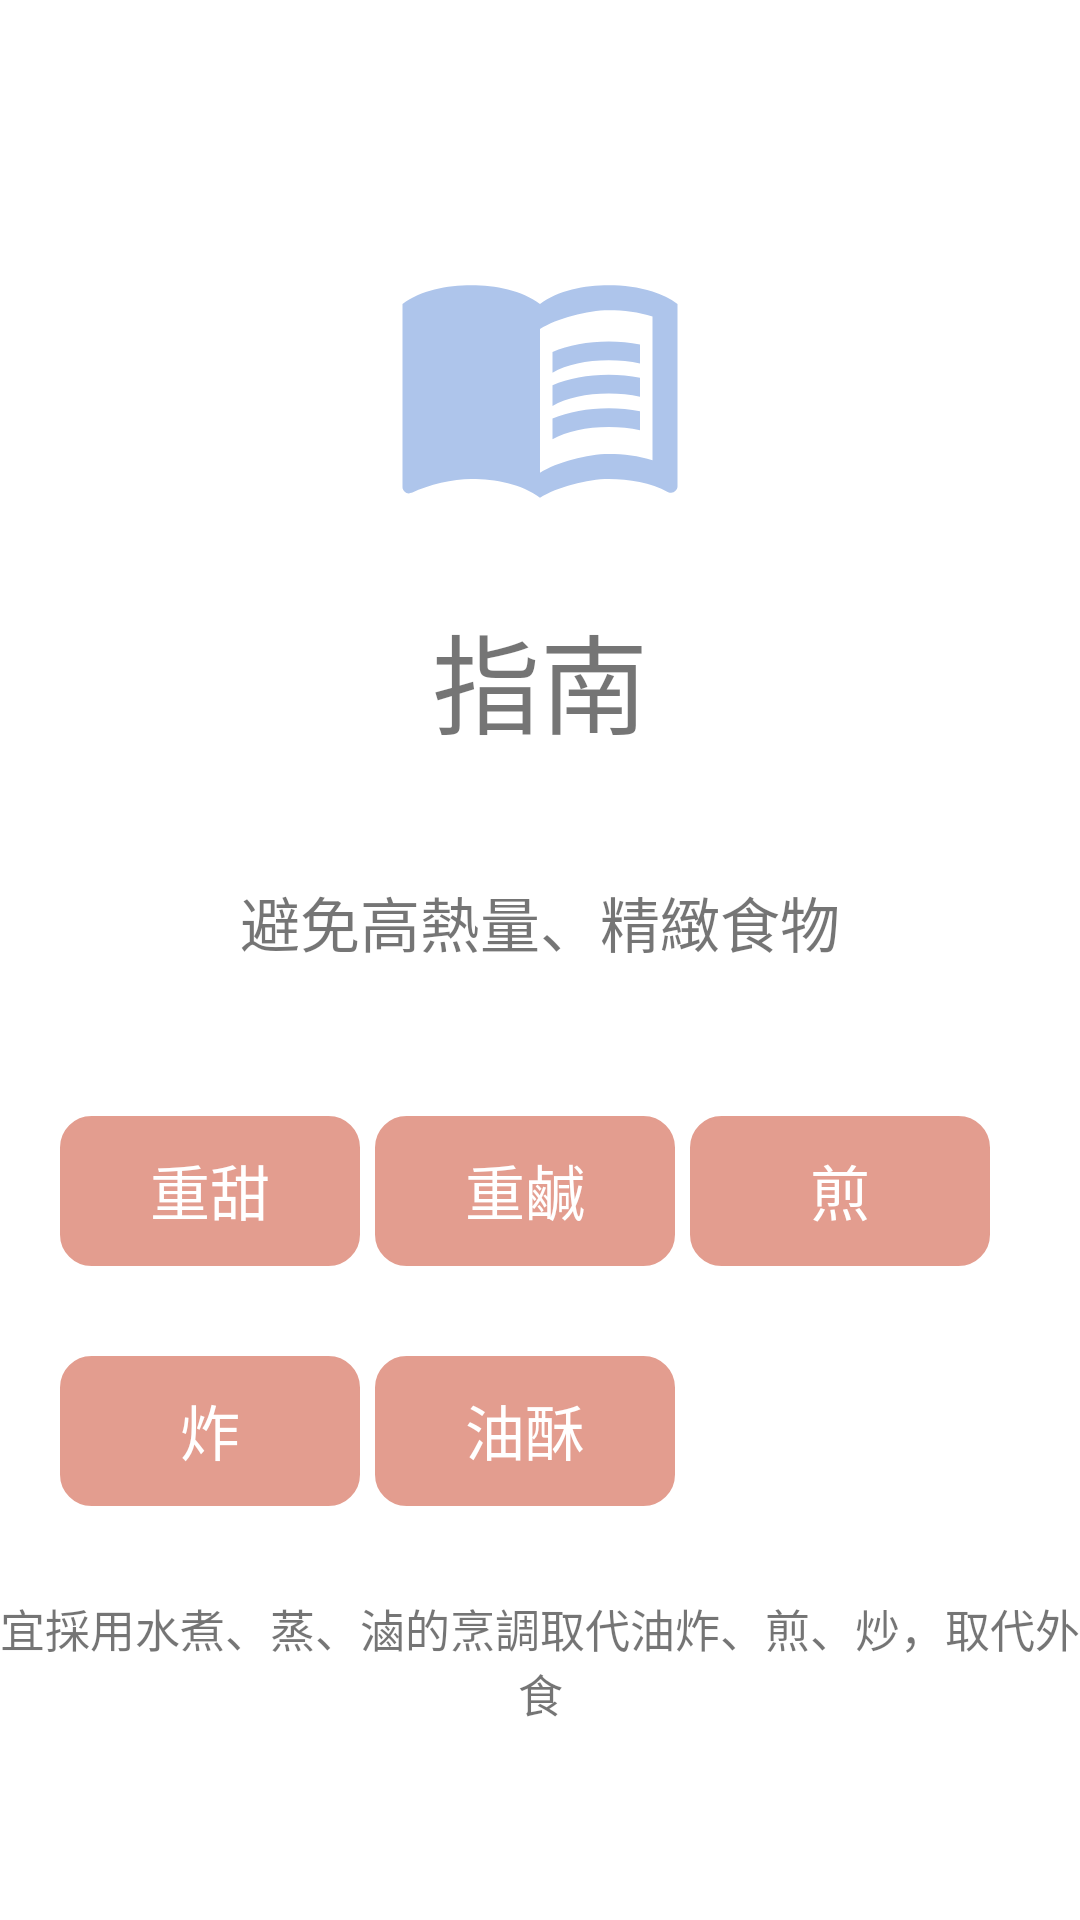

Where icons sit on this 1080px x 1920px app screen, as (x1, y1, x2, y2):
book: (402, 285, 678, 498)
